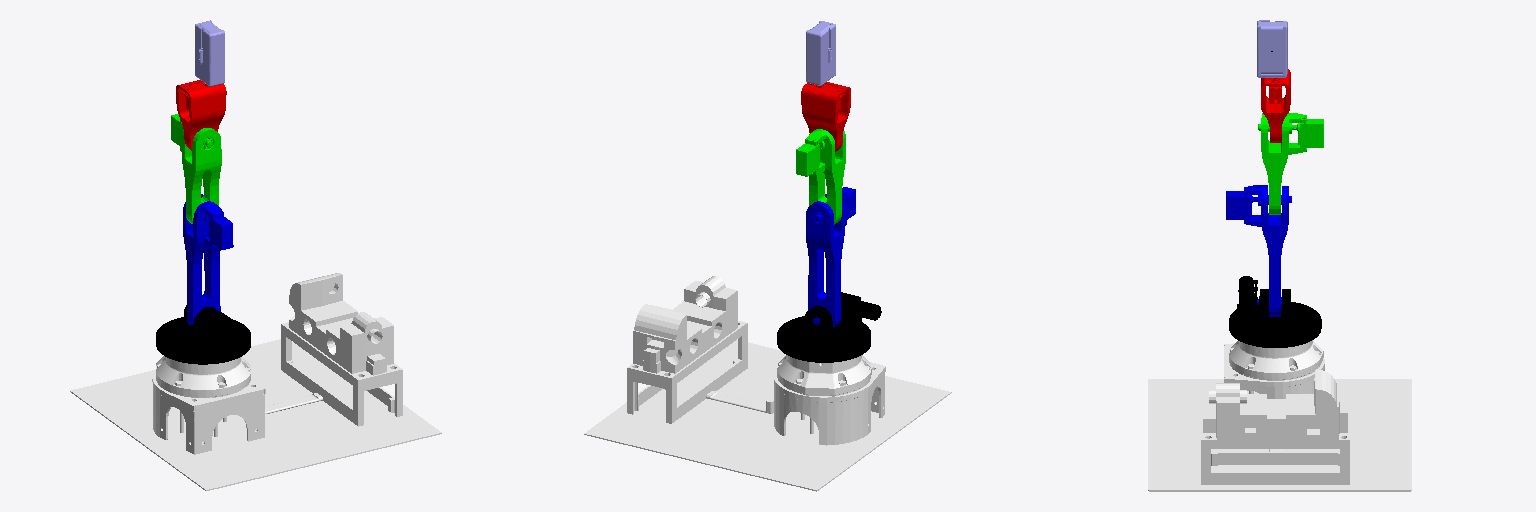
robot.urdf — All_robot:
<?xml version="1.0" encoding="utf-8"?>
<!-- This URDF was automatically created by SolidWorks to URDF Exporter! Originally created by Stephen Brawner (brawner@gmail.com) 
     Commit Version: 1.6.0-4-g7f85cfe  Build Version: 1.6.7995.38578
     For more information, please see http://wiki.ros.org/sw_urdf_exporter -->
<robot
  name="All_robot">
  <link
    name="base_link">
    <inertial>
      <origin
        xyz="0.01917 -0.0051557 0.072981"
        rpy="0 0 0" />
      <mass
        value="1.9889" />
      <inertia
        ixx="0.0095683"
        ixy="-1.8258E-06"
        ixz="-4.3234E-05"
        iyy="0.0066241"
        iyz="-5.4472E-05"
        izz="0.014977" />
    </inertial>
    <visual>
      <origin
        xyz="0 0 0"
        rpy="0 0 0" />
      <geometry>
        <mesh
          filename="package://All_robot/meshes/base_link.STL" />
      </geometry>
      <material
        name="">
        <color
          rgba="1 1 1 1" />
      </material>
    </visual>
    <collision>
      <origin
        xyz="0 0 0"
        rpy="0 0 0" />
      <geometry>
        <mesh
          filename="package://All_robot/meshes/base_link.STL" />
      </geometry>
    </collision>
  </link>
  <link
    name="rot">
    <inertial>
      <origin
        xyz="-0.003788 -0.0087997 0.010667"
        rpy="0 0 0" />
      <mass
        value="0.203" />
      <inertia
        ixx="0.00029862"
        ixy="-2.6283E-05"
        ixz="1.9741E-05"
        iyy="0.00026312"
        iyz="3.9872E-05"
        izz="0.00044847" />
    </inertial>
    <visual>
      <origin
        xyz="0 0 0"
        rpy="0 0 0" />
      <geometry>
        <mesh
          filename="package://All_robot/meshes/rot.STL" />
      </geometry>
      <material
        name="">
        <color
          rgba="0 0 0 1" />
      </material>
    </visual>
    <collision>
      <origin
        xyz="0 0 0"
        rpy="0 0 0" />
      <geometry>
        <mesh
          filename="package://All_robot/meshes/rot.STL" />
      </geometry>
    </collision>
  </link>
  <joint
    name="rot_joint"
    type="continuous">
    <origin
      xyz="-0.092999 -0.0069989 0.1408"
      rpy="0 0 0" />
    <parent
      link="base_link" />
    <child
      link="rot" />
    <axis
      xyz="0 0 -1" />
    <limit
      lower="0"
      upper="0"
      effort="0"
      velocity="0" />
  </joint>
  <link
    name="l1">
    <inertial>
      <origin
        xyz="-0.0010679 0.10179 0.0089633"
        rpy="0 0 0" />
      <mass
        value="0.1376" />
      <inertia
        ixx="0.00060328"
        ixy="5.3942E-06"
        ixz="7.6062E-07"
        iyy="8.7712E-05"
        iyz="-7.2206E-05"
        izz="0.0005571" />
    </inertial>
    <visual>
      <origin
        xyz="0 0 0"
        rpy="0 0 0" />
      <geometry>
        <mesh
          filename="package://All_robot/meshes/l1.STL" />
      </geometry>
      <material
        name="">
        <color
          rgba="0 0 1 1" />
      </material>
    </visual>
    <collision>
      <origin
        xyz="0 0 0"
        rpy="0 0 0" />
      <geometry>
        <mesh
          filename="package://All_robot/meshes/l1.STL" />
      </geometry>
    </collision>
  </link>
  <joint
    name="l1_joint"
    type="revolute">
    <origin
      xyz="0 -0.0005 0.0375"
      rpy="1.5708 0 -0.0039085" />
    <parent
      link="rot" />
    <child
      link="l1" />
    <axis
      xyz="0 0 1" />
    <limit
      lower="-1.57"
      upper="1.57"
      effort="0"
      velocity="0" />
  </joint>
  <link
    name="l2">
    <inertial>
      <origin
        xyz="-0.0011197 0.074655 -0.011196"
        rpy="0 0 0" />
      <mass
        value="0.11046" />
      <inertia
        ixx="0.00027612"
        ixy="2.8913E-06"
        ixz="-6.4454E-07"
        iyy="7.8927E-05"
        iyz="4.3574E-05"
        izz="0.0002299" />
    </inertial>
    <visual>
      <origin
        xyz="0 0 0"
        rpy="0 0 0" />
      <geometry>
        <mesh
          filename="package://All_robot/meshes/l2.STL" />
      </geometry>
      <material
        name="">
        <color
          rgba="0 1 0 1" />
      </material>
    </visual>
    <collision>
      <origin
        xyz="0 0 0"
        rpy="0 0 0" />
      <geometry>
        <mesh
          filename="package://All_robot/meshes/l2.STL" />
      </geometry>
    </collision>
  </link>
  <joint
    name="l2_joint"
    type="revolute">
    <origin
      xyz="-0.001789 0.16999 0"
      rpy="0 0 0" />
    <parent
      link="l1" />
    <child
      link="l2" />
    <axis
      xyz="0 0 1" />
    <limit
      lower="-1.92"
      upper="1.92"
      effort="0"
      velocity="0" />
  </joint>
  <link
    name="l3">
    <inertial>
      <origin
        xyz="-1.0589E-05 0.043229 -0.00099981"
        rpy="0 0 0" />
      <mass
        value="0.13434" />
      <inertia
        ixx="0.00011138"
        ixy="2.0552E-07"
        ixz="8.7349E-12"
        iyy="4.8295E-05"
        iyz="4.3329E-10"
        izz="0.000122" />
    </inertial>
    <visual>
      <origin
        xyz="0 0 0"
        rpy="0 0 0" />
      <geometry>
        <mesh
          filename="package://All_robot/meshes/l3.STL" />
      </geometry>
      <material
        name="">
        <color
          rgba="1 0 0 1" />
      </material>
    </visual>
    <collision>
      <origin
        xyz="0 0 0"
        rpy="0 0 0" />
      <geometry>
        <mesh
          filename="package://All_robot/meshes/l3.STL" />
      </geometry>
    </collision>
  </link>
  <joint
    name="l3_joint"
    type="revolute">
    <origin
      xyz="-0.001789 0.11999 0"
      rpy="0 0 0" />
    <parent
      link="l2" />
    <child
      link="l3" />
    <axis
      xyz="0 0 1" />
    <limit
      lower="-1.74"
      upper="1.74"
      effort="0"
      velocity="0" />
  </joint>
  <link
    name="l4">
    <inertial>
      <origin
        xyz="0.0010378 -0.0056914 0.050171"
        rpy="0 0 0" />
      <mass
        value="0.10668" />
      <inertia
        ixx="8.126E-05"
        ixy="-4.6534E-08"
        ixz="-2.7201E-07"
        iyy="6.8474E-05"
        iyz="-8.97E-08"
        izz="2.55E-05" />
    </inertial>
    <visual>
      <origin
        xyz="0 0 0"
        rpy="0 0 0" />
      <geometry>
        <mesh
          filename="package://All_robot/meshes/l4.STL" />
      </geometry>
      <material
        name="">
        <color
          rgba="0.7 0.7 1 1" />
      </material>
    </visual>
    <collision>
      <origin
        xyz="0 0 0"
        rpy="0 0 0" />
      <geometry>
        <mesh
          filename="package://All_robot/meshes/l4.STL" />
      </geometry>
    </collision>
  </link>
  <joint
    name="l4_joint"
    type="continuous">
    <origin
      xyz="0.010507 0.085905 -0.0013063"
      rpy="-1.5708 0.0039085 0" />
    <parent
      link="l3" />
    <child
      link="l4" />
    <axis
      xyz="0 0 -1" />
    <limit
      lower="0"
      upper="0"
      effort="0"
      velocity="0" />
  </joint>
  <link
    name="camera">
    <inertial>
      <origin
        xyz="-1.3399E-12 -1.0925E-13 3.2725E-12"
        rpy="0 0 0" />
      <mass
        value="3.6262E-07" />
      <inertia
        ixx="1.0494E-13"
        ixy="1.2313E-26"
        ixz="-4.0779E-16"
        iyy="1.0494E-13"
        iyz="-3.1502E-24"
        izz="2.0927E-13" />
    </inertial>
    <visual>
      <origin
        xyz="0 0 0"
        rpy="0 0 0" />
      <geometry>
        <mesh
          filename="package://All_robot/meshes/camera.STL" />
      </geometry>
      <material
        name="">
        <color
          rgba="0 0 0 1" />
      </material>
    </visual>
    <collision>
      <origin
        xyz="0 0 0"
        rpy="0 0 0" />
      <geometry>
        <mesh
          filename="package://All_robot/meshes/camera.STL" />
      </geometry>
    </collision>
  </link>
  <joint
    name="camera_joint"
    type="fixed">
    <origin
      xyz="0.014456 -0.0057379 0.052805"
      rpy="1.5708 0 1.5708" />
    <parent
      link="l4" />
    <child
      link="camera" />
    <axis
      xyz="0 0 0" />
  </joint>
</robot>

--- Facts derived from the render (not from the file) ---
Views: 3 orthographic renders of the robot side by side, from view 1: azimuth 30°, elevation 25°; view 2: azimuth 150°, elevation 25°; view 3: azimuth 270°, elevation 25°.
Model All_robot with 7 links and 6 joints (3 revolute, 2 continuous, 1 fixed), rooted at base_link, posed all joints at 0.
Visible links, largest first — view 1: base_link, rot, l1, l2, l3, l4; view 2: base_link, rot, l1, l2, l3, l4; view 3: base_link, rot, l1, l2, l4, l3.
Link boxes in pixels (box(x1,y1,x2,y2)): base_link: box(70, 273, 441, 490); rot: box(156, 305, 250, 364); l1: box(183, 194, 233, 324); l2: box(171, 114, 221, 223); l3: box(176, 80, 226, 150); l4: box(195, 20, 224, 86); base_link: box(584, 276, 951, 491); rot: box(777, 292, 881, 362); l1: box(806, 187, 855, 327); l2: box(796, 129, 845, 224); l3: box(801, 82, 850, 151); l4: box(806, 21, 835, 85); base_link: box(1148, 340, 1411, 491); rot: box(1229, 276, 1321, 347); l1: box(1226, 185, 1291, 316); l2: box(1258, 113, 1323, 214); l4: box(1257, 20, 1287, 77); l3: box(1261, 69, 1290, 142).
Size in the robot's own frame: 0.4 by 0.4 by 0.649 metres.
7 mesh visuals loaded from 7 distinct referenced files (7 binary STL).
